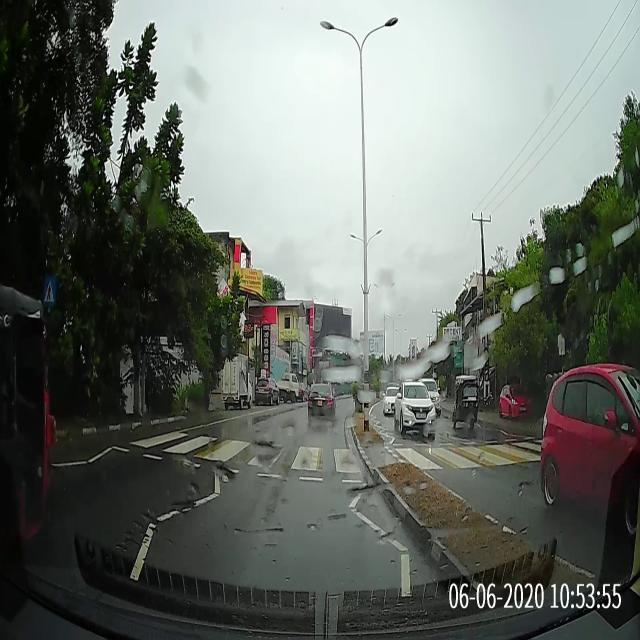Perehod: (109, 427, 542, 485)
